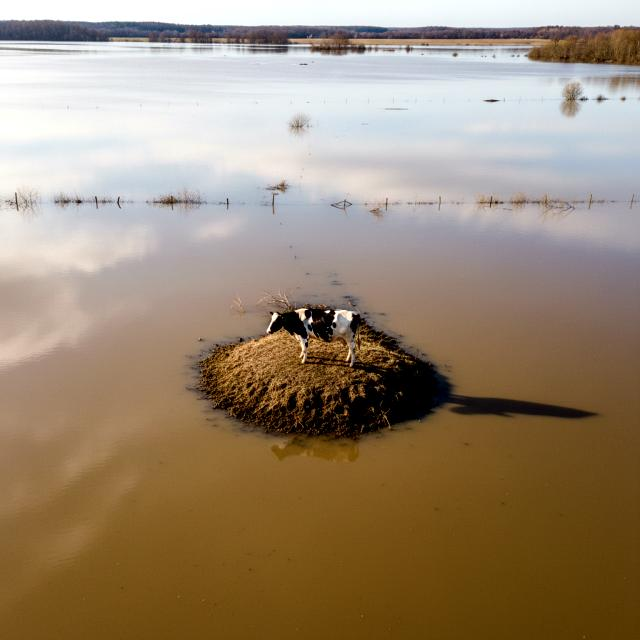cow: (259, 300, 374, 378)
